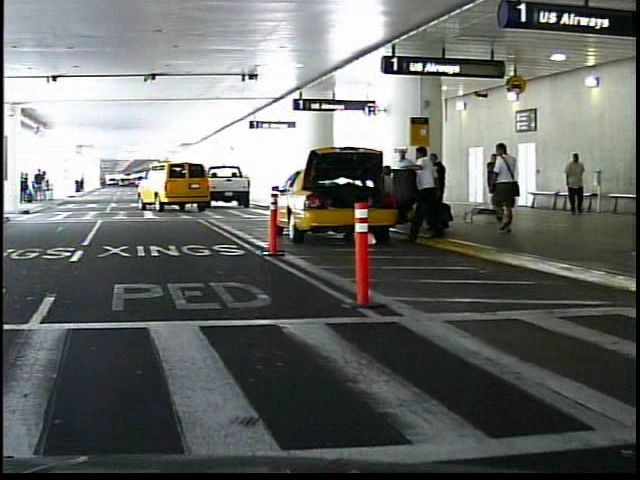person: (484, 140, 520, 237), (556, 149, 584, 216)
